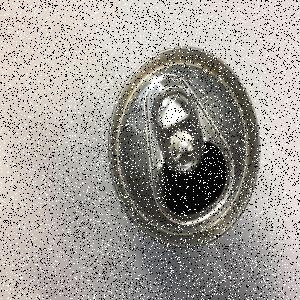Can: (108, 46, 262, 250)
